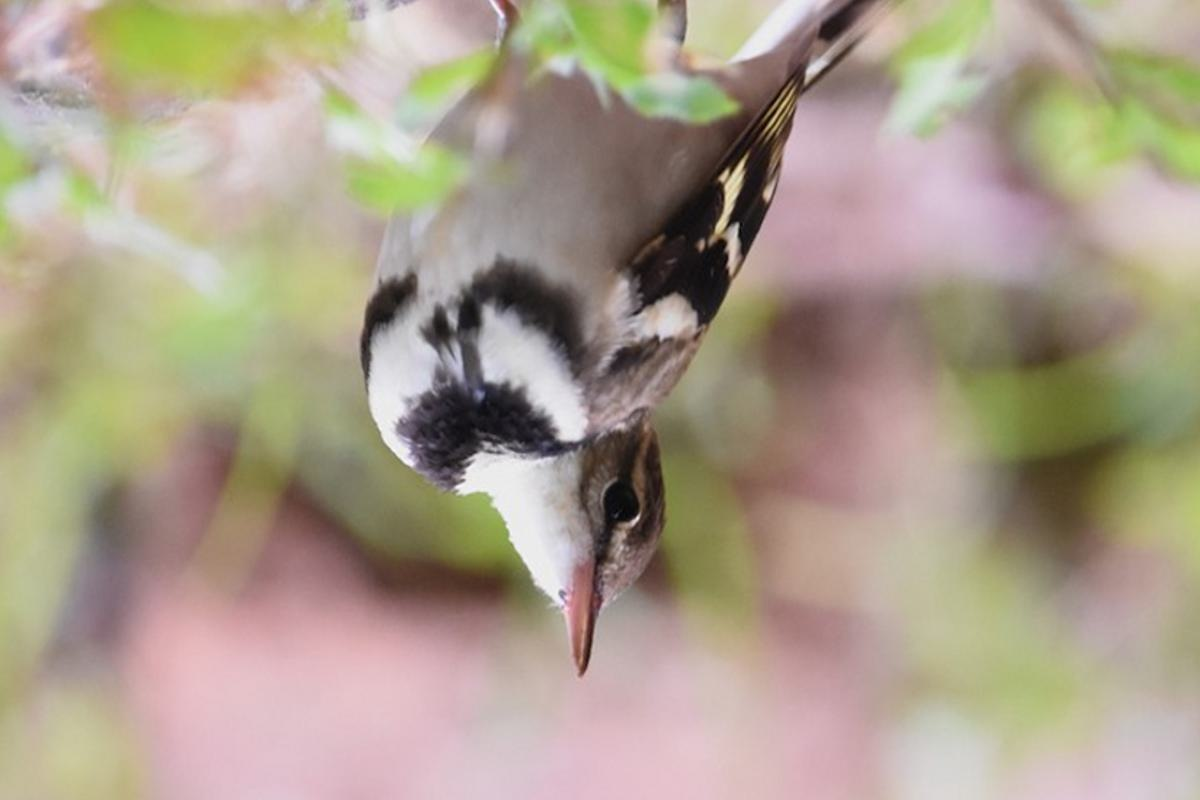wagtail: (395, 68, 749, 640)
